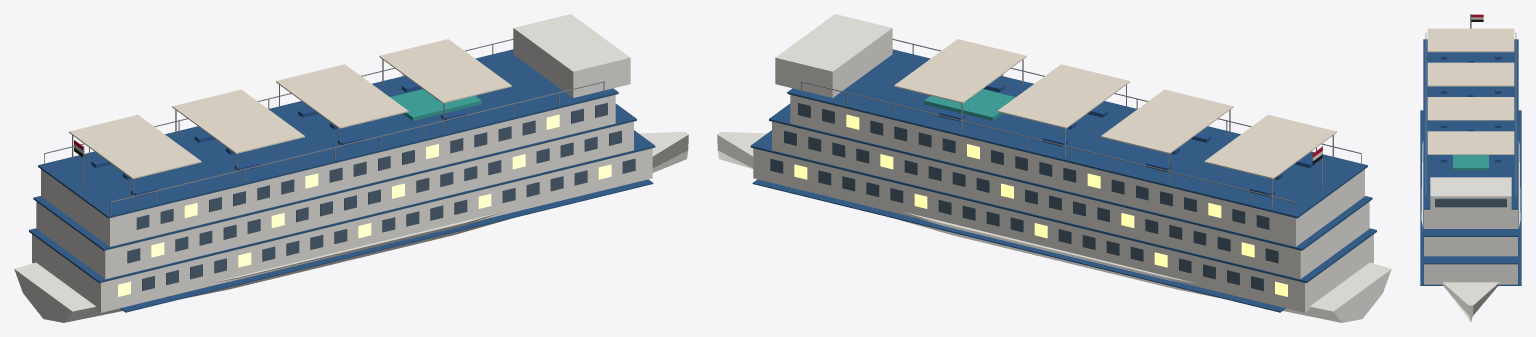
The model's file is kryssningsbat.glb.
3 views of the same model, side by side, from view 1: azimuth 30°, elevation 25°; view 2: azimuth 150°, elevation 25°; view 3: azimuth 270°, elevation 25° (orthographic). The views are drawn at different scales.
Parts seen in each view (by area): view 1: kryssningsbat; view 2: kryssningsbat; view 3: kryssningsbat.
Boxes of the visible parts, box(x1,y1,x2,y2) form: kryssningsbat: box(14, 14, 688, 322); kryssningsbat: box(717, 14, 1391, 322); kryssningsbat: box(1420, 14, 1521, 322).
Size of the model in its own units: 56 by 13.9 by 11.22.
